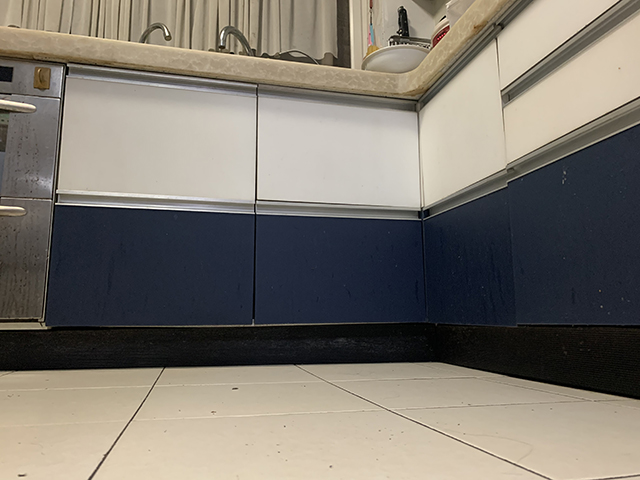cabinet: (1, 25, 415, 367), (414, 1, 640, 406)
